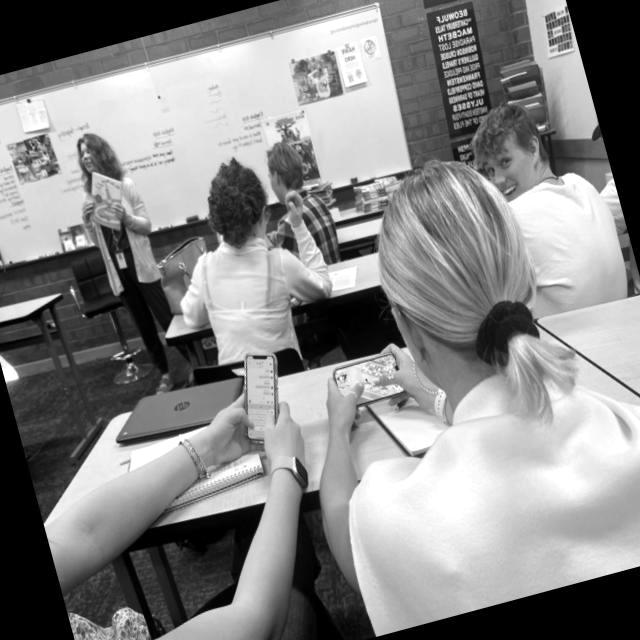phone: (225, 346, 298, 448), (331, 350, 406, 411)
